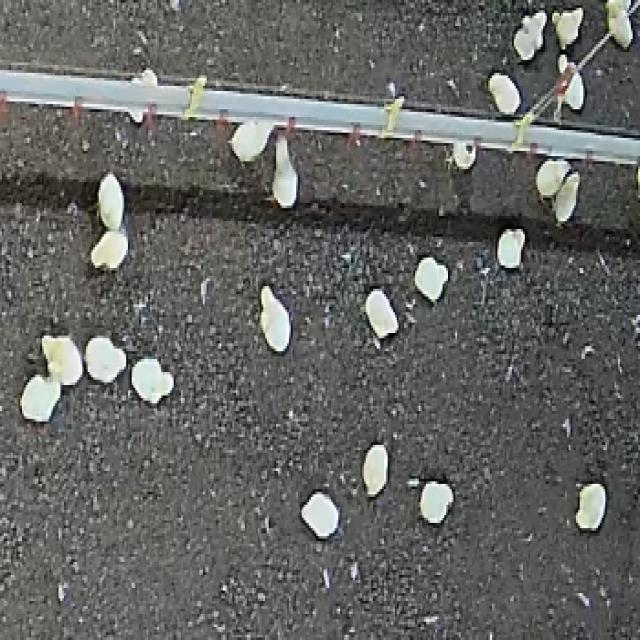broiler: (42, 336, 82, 385), (260, 286, 289, 351), (84, 336, 124, 382), (20, 375, 60, 421), (300, 492, 338, 539), (229, 120, 272, 161), (132, 359, 172, 403), (272, 135, 296, 206), (512, 10, 545, 60), (366, 289, 397, 338), (97, 172, 123, 229), (413, 258, 446, 302), (419, 481, 452, 523), (576, 484, 605, 531), (90, 232, 126, 268), (536, 159, 569, 198), (552, 172, 578, 221), (362, 445, 388, 494), (605, 0, 631, 47), (488, 73, 519, 112), (552, 8, 581, 47), (497, 229, 523, 268), (561, 70, 583, 109), (452, 140, 475, 169), (558, 55, 569, 70)
pipe: (196, 88, 521, 148), (0, 70, 188, 117), (517, 125, 638, 161)
